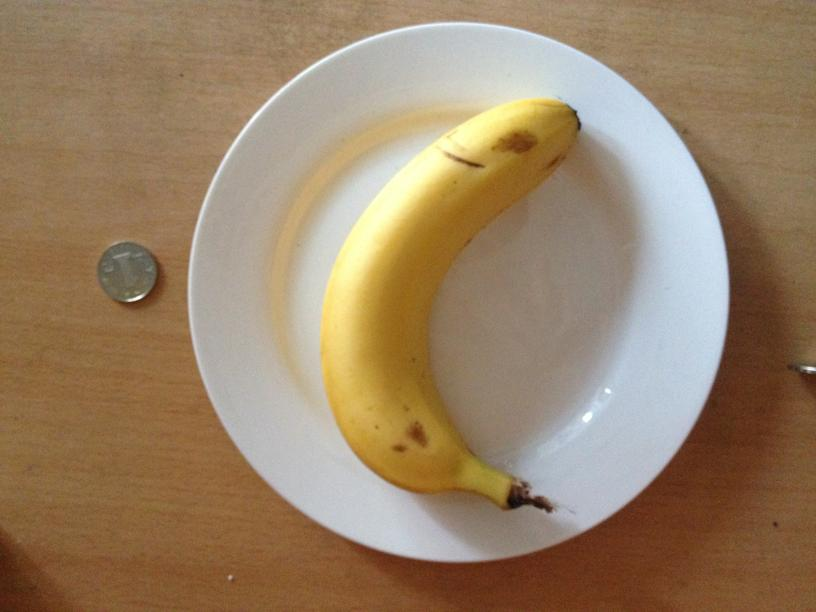banana: (314, 90, 576, 500)
coin: (94, 238, 161, 304)
